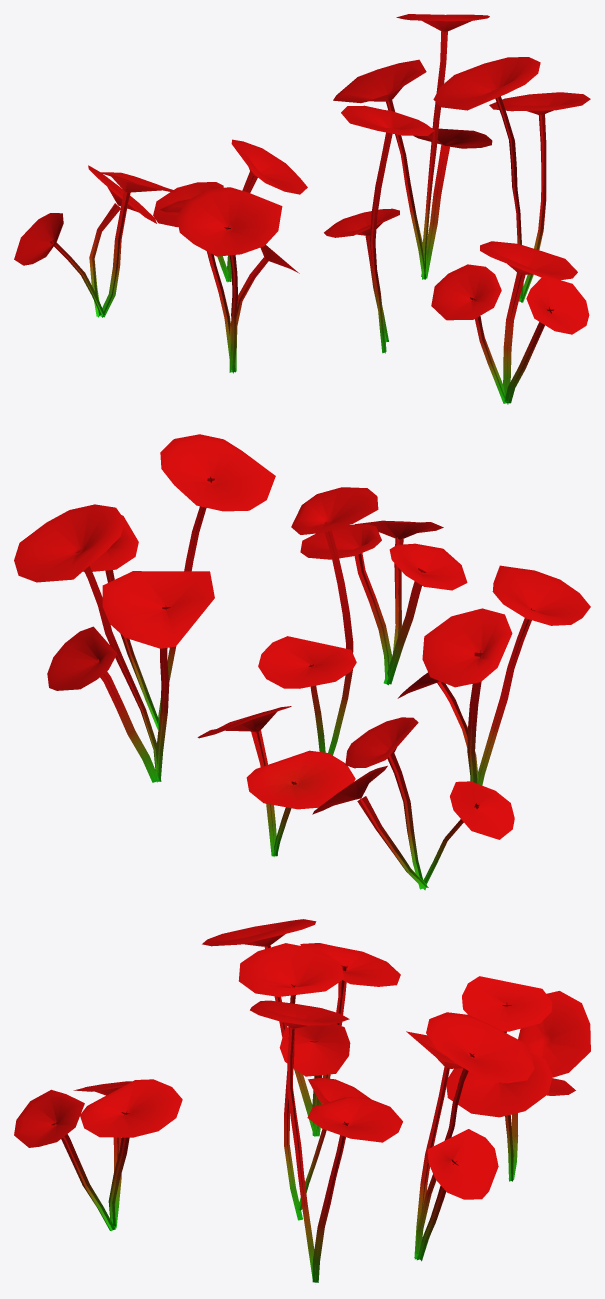
File: Native Violet_LOD2_Var9_ultkcfeja.fbx
3 renders of one model, top to bottom at view 1: azimuth 30°, elevation 25°; view 2: azimuth 150°, elevation 25°; view 3: azimuth 270°, elevation 25°, orthographic. The views are drawn at different scales.
Visible parts, largest first — view 1: _sm9l_Var9_LOD2; view 2: _sm9l_Var9_LOD2; view 3: _sm9l_Var9_LOD2.
Part boxes in pixels (x1,y1,x2,y2): _sm9l_Var9_LOD2: (14, 14, 590, 404); _sm9l_Var9_LOD2: (14, 434, 590, 890); _sm9l_Var9_LOD2: (14, 919, 590, 1282).
Size of the model in its own units: 26.25 by 13.47 by 25.63.
